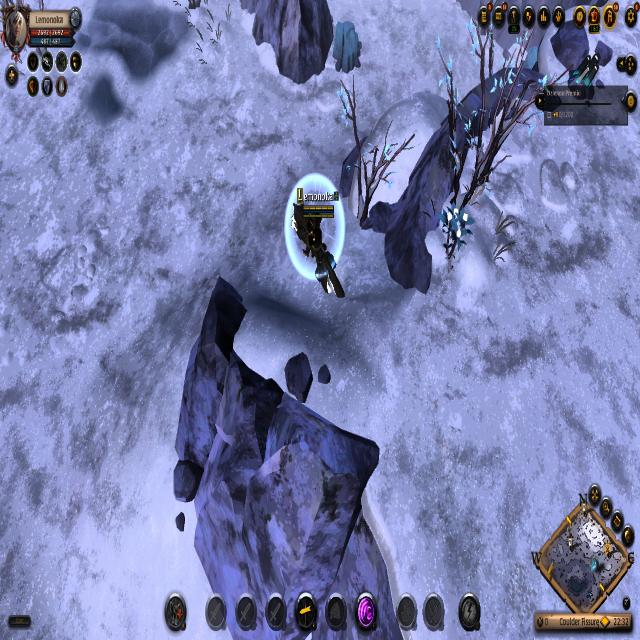fiber tier 4: (436, 200, 475, 266)
rock tier 4: (332, 16, 363, 75)
